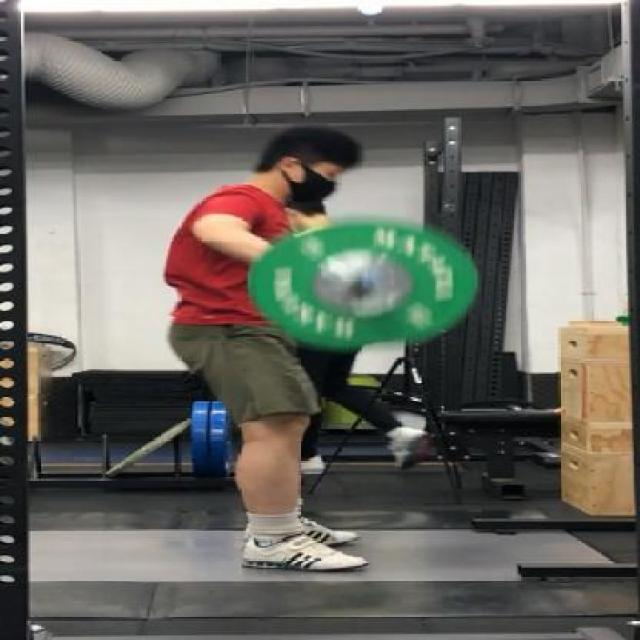Barbell: (354, 264, 390, 292)
